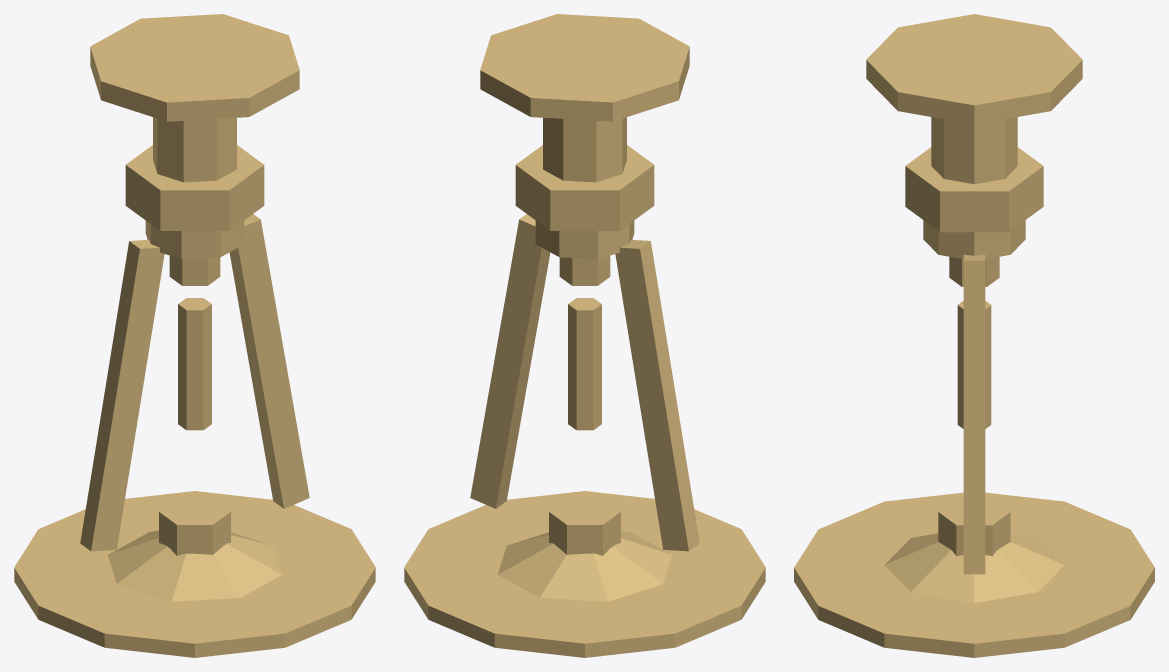
File: sprinkler-head.glb
The picture shows the model from 3 angles, left to right: view 1: azimuth 30°, elevation 25°; view 2: azimuth 150°, elevation 25°; view 3: azimuth 270°, elevation 25°; orthographic projection.
Visible parts, largest first — view 1: sprinkler-head_merged; view 2: sprinkler-head_merged; view 3: sprinkler-head_merged.
Part boxes in pixels (bbox=[...]): sprinkler-head_merged: bbox=[14, 14, 375, 657]; sprinkler-head_merged: bbox=[404, 14, 765, 657]; sprinkler-head_merged: bbox=[794, 14, 1154, 657].
Bounding box in the file's own units: 0.06 × 0.1 × 0.06.
